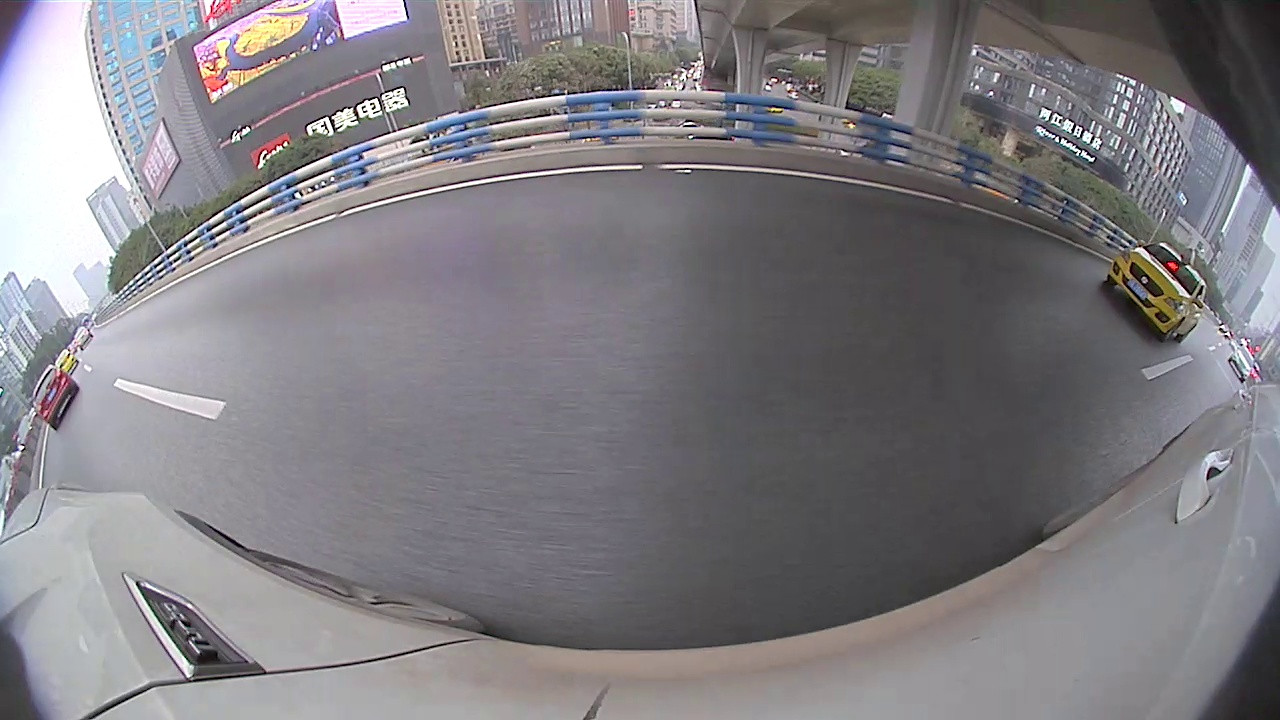car: (959, 172, 1279, 466), (417, 153, 552, 233), (619, 137, 718, 218), (742, 144, 853, 210), (842, 170, 953, 229), (563, 157, 602, 193), (726, 163, 754, 187)
front: (970, 230, 1030, 303), (543, 182, 555, 206), (742, 176, 755, 197)
rear: (1198, 377, 1268, 463), (883, 198, 902, 221), (508, 191, 522, 221), (781, 182, 795, 206)
